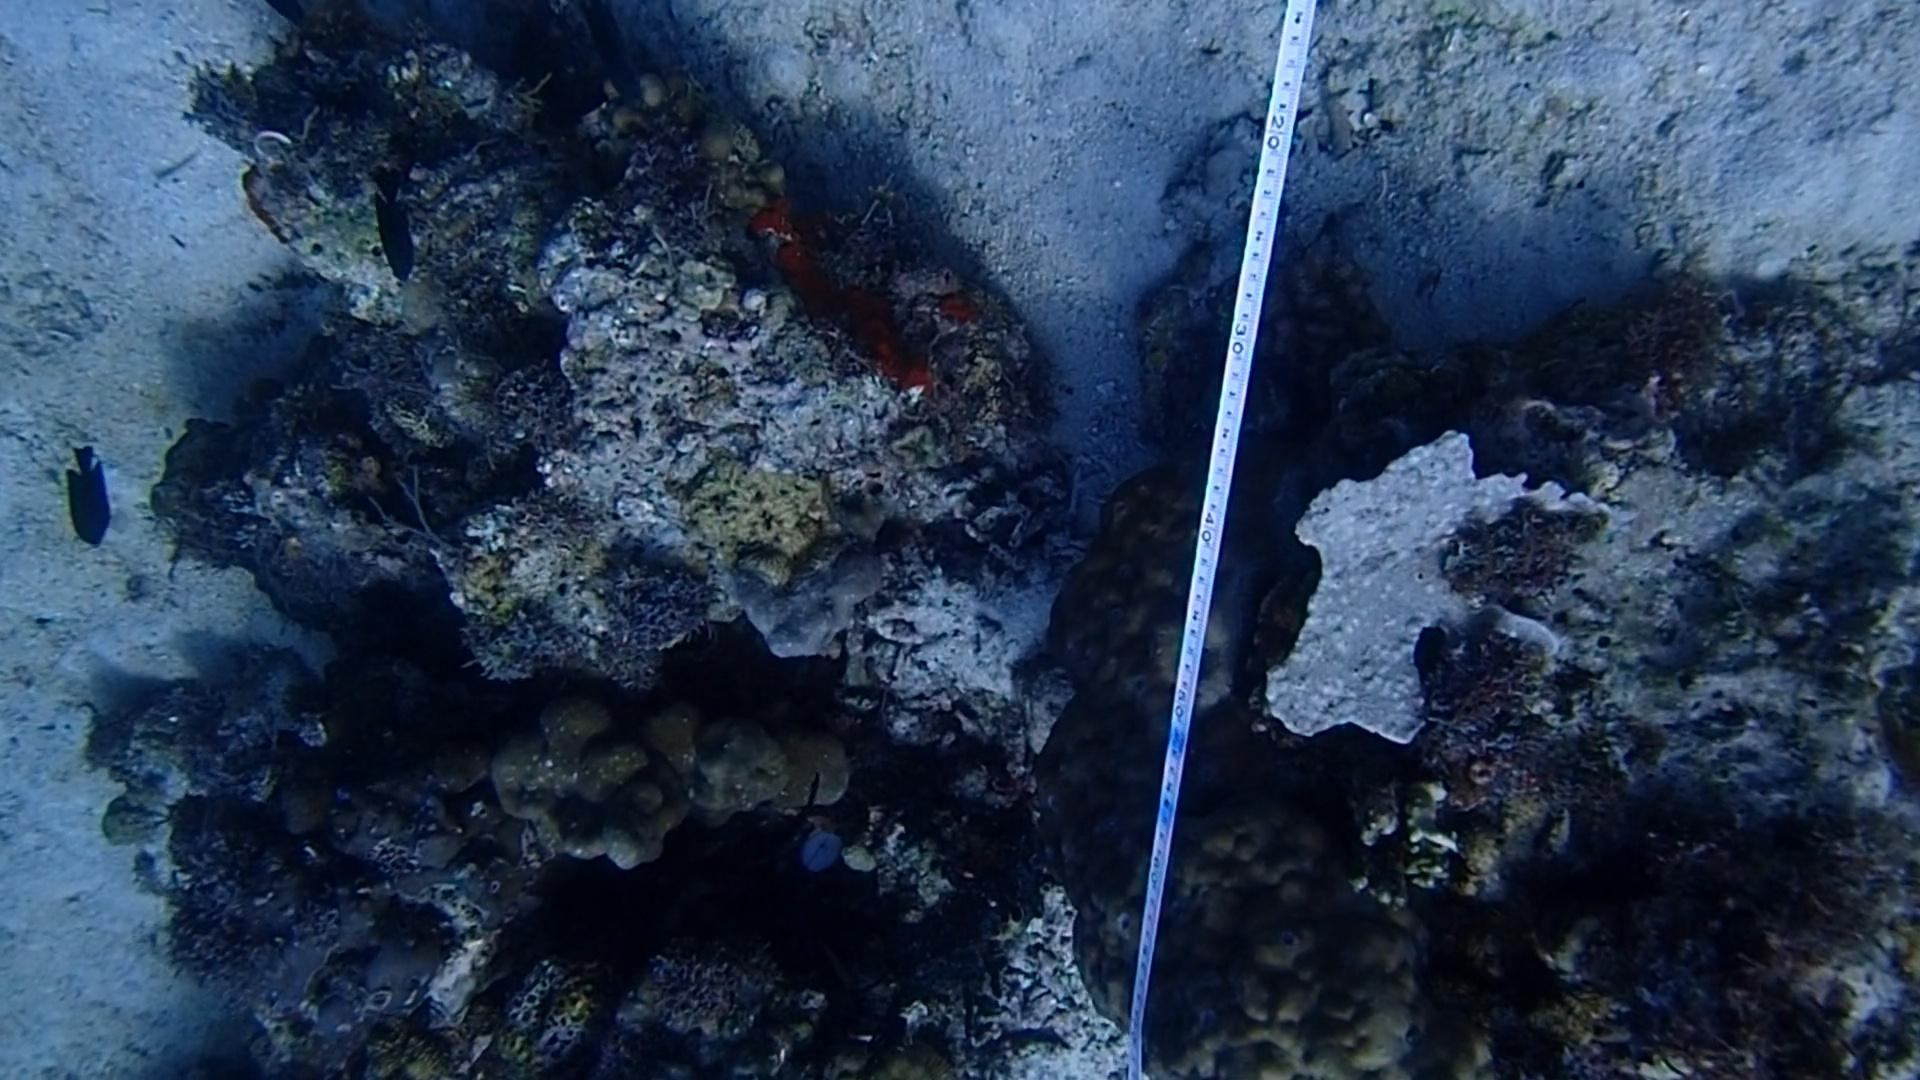Dark Fish: (47, 431, 127, 562), (363, 153, 427, 294)
